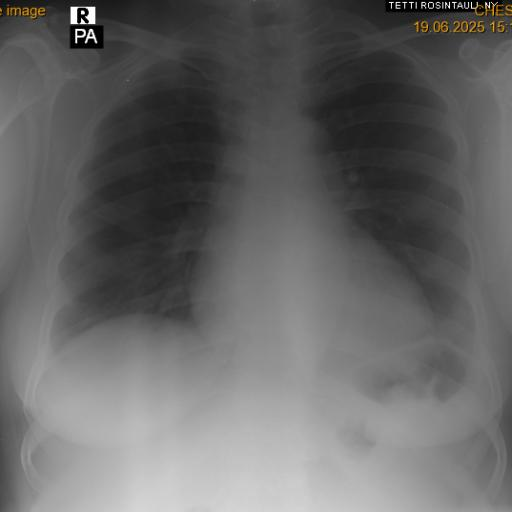kardiomegali: (31, 12, 508, 416)
